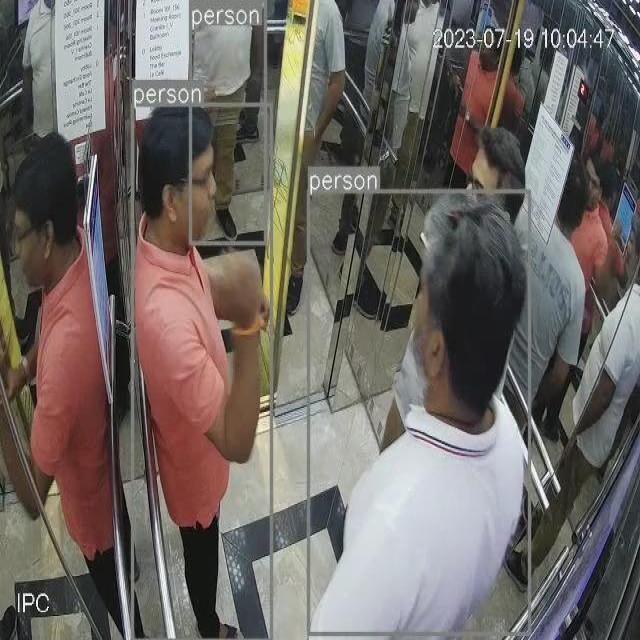person: (310, 188, 528, 636), (135, 100, 272, 639), (189, 5, 267, 244)
